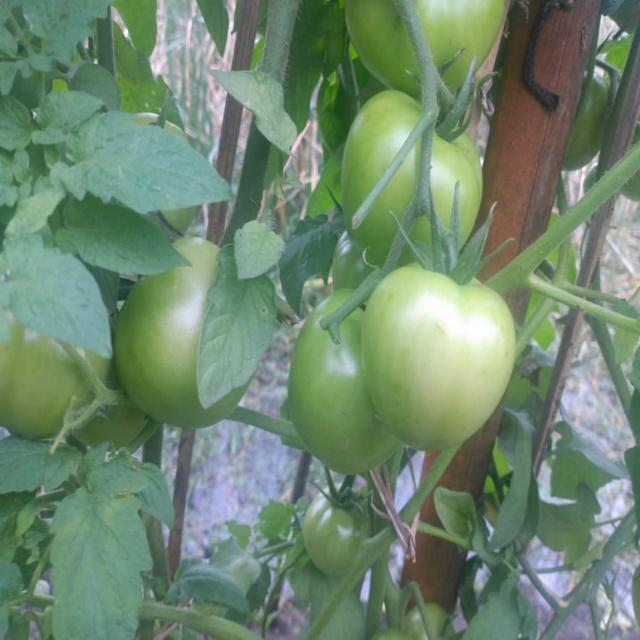tomato: (372, 262, 509, 446), (303, 302, 387, 464), (118, 255, 198, 421), (349, 90, 412, 250), (1, 334, 88, 438), (300, 479, 366, 572), (434, 120, 484, 239), (432, 1, 506, 76), (355, 1, 410, 91), (569, 91, 613, 169), (414, 607, 446, 640)
